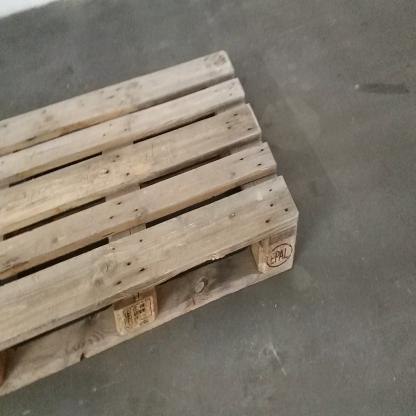BoxFace: (0, 45, 302, 402)
